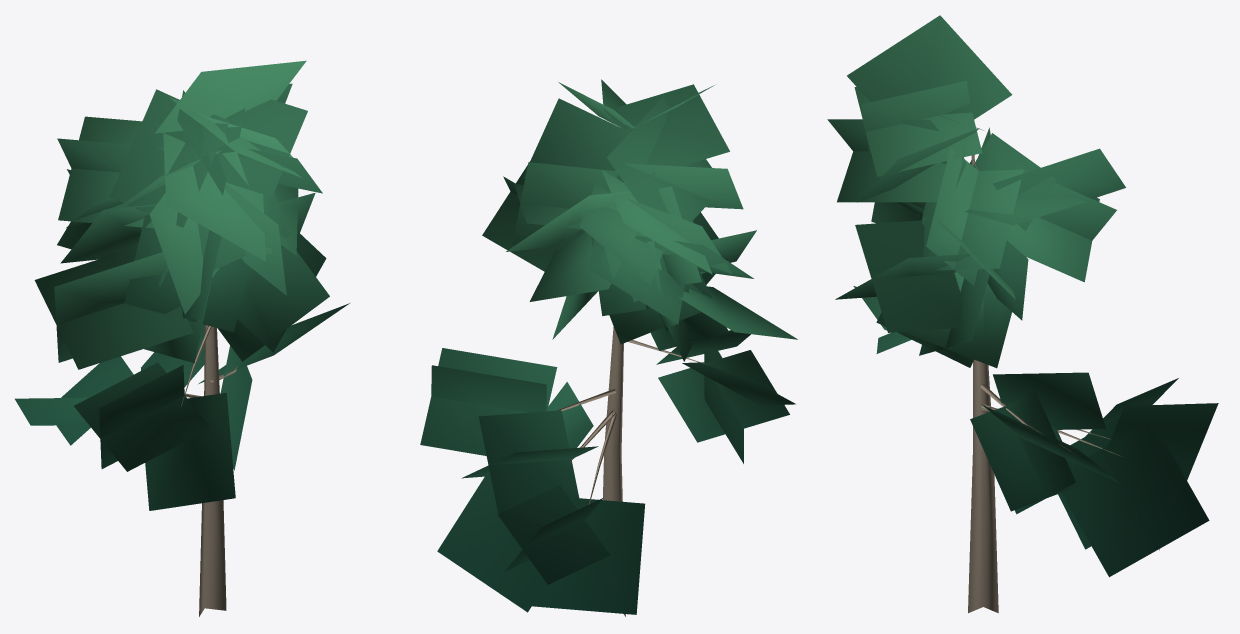
File: pine-b-liviano.glb
3 views of the same model, side by side, from view 1: azimuth 30°, elevation 25°; view 2: azimuth 150°, elevation 25°; view 3: azimuth 270°, elevation 25° (orthographic). The views are drawn at different scales.
Visible parts, largest first — view 1: pine-b-liviano; view 2: pine-b-liviano; view 3: pine-b-liviano.
Part boxes in pixels (x1,y1,x2,y2): pine-b-liviano: [15, 60, 349, 616]; pine-b-liviano: [420, 79, 797, 616]; pine-b-liviano: [827, 15, 1218, 613].
Bounding box in the file's own units: 7.64 × 13.5 × 8.15.
